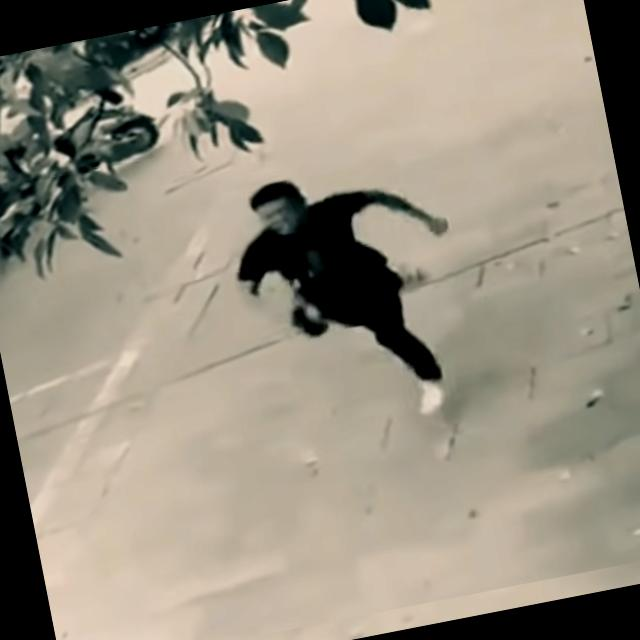person: (220, 151, 482, 444)
